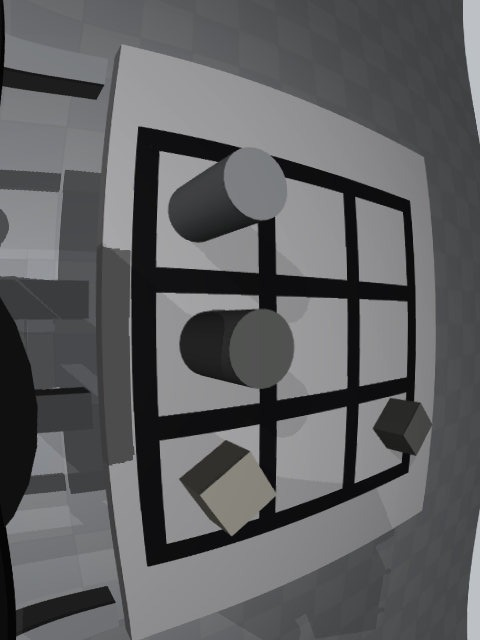can: (168, 147, 287, 243)
cube: (373, 398, 433, 456)
cylinder: (179, 309, 295, 389)
foam: (179, 440, 276, 536)
